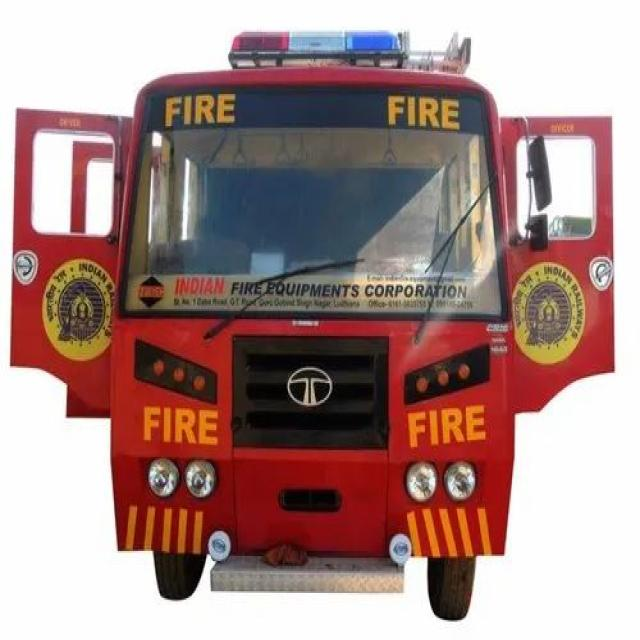Fire Truck: (26, 35, 540, 640)
